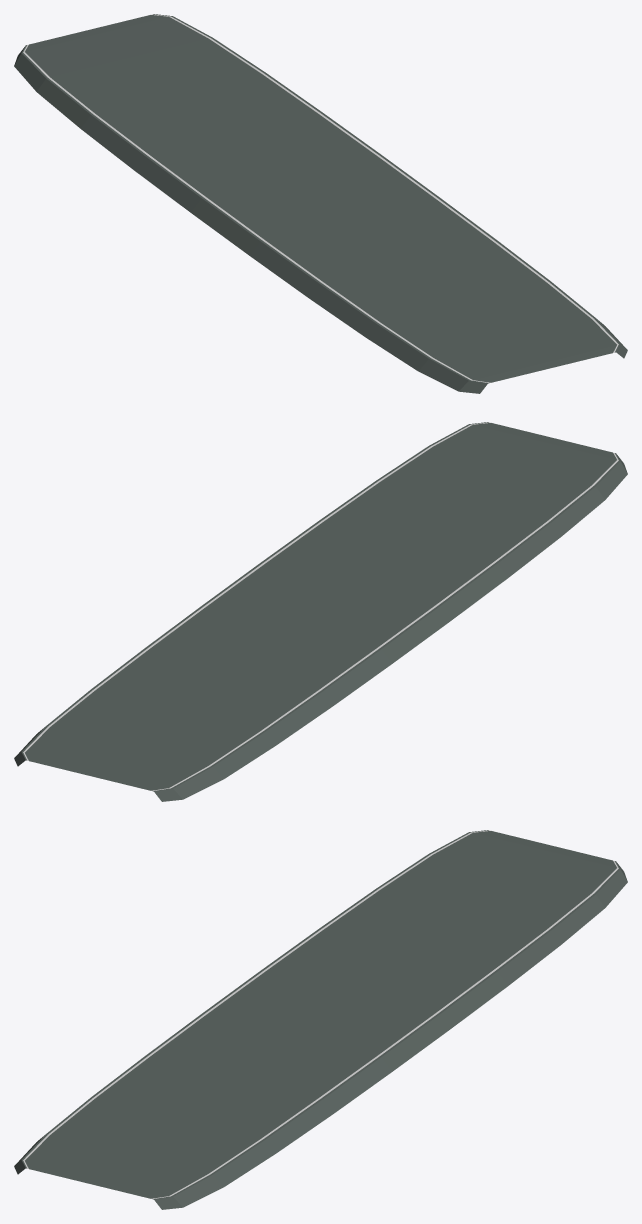
The model's file is Straight_Bloated_XL.fbx.
3 renders of one model, top to bottom at view 1: azimuth 30°, elevation 25°; view 2: azimuth 150°, elevation 25°; view 3: azimuth 330°, elevation 25°, orthographic.
Visible parts, largest first — view 1: Plane; view 2: Plane; view 3: Plane.
Boxes of the visible parts, bbox=[...] form: Plane: bbox=[14, 14, 627, 393]; Plane: bbox=[14, 422, 627, 801]; Plane: bbox=[14, 830, 627, 1209].
Bounding box in the file's own units: 25.2 × 1.4 × 100.
